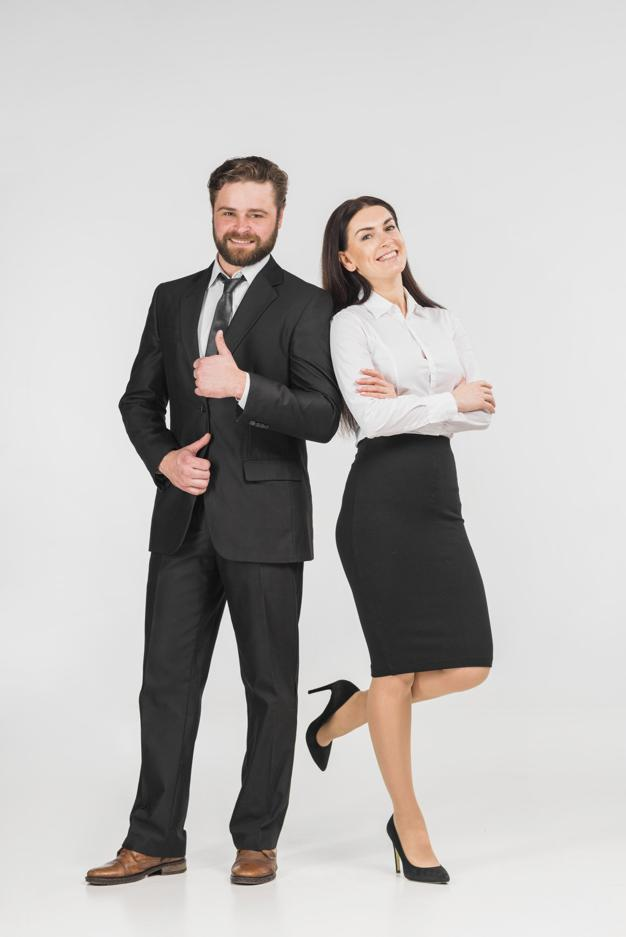thumbsup: (192, 329, 228, 398), (177, 433, 212, 496)
